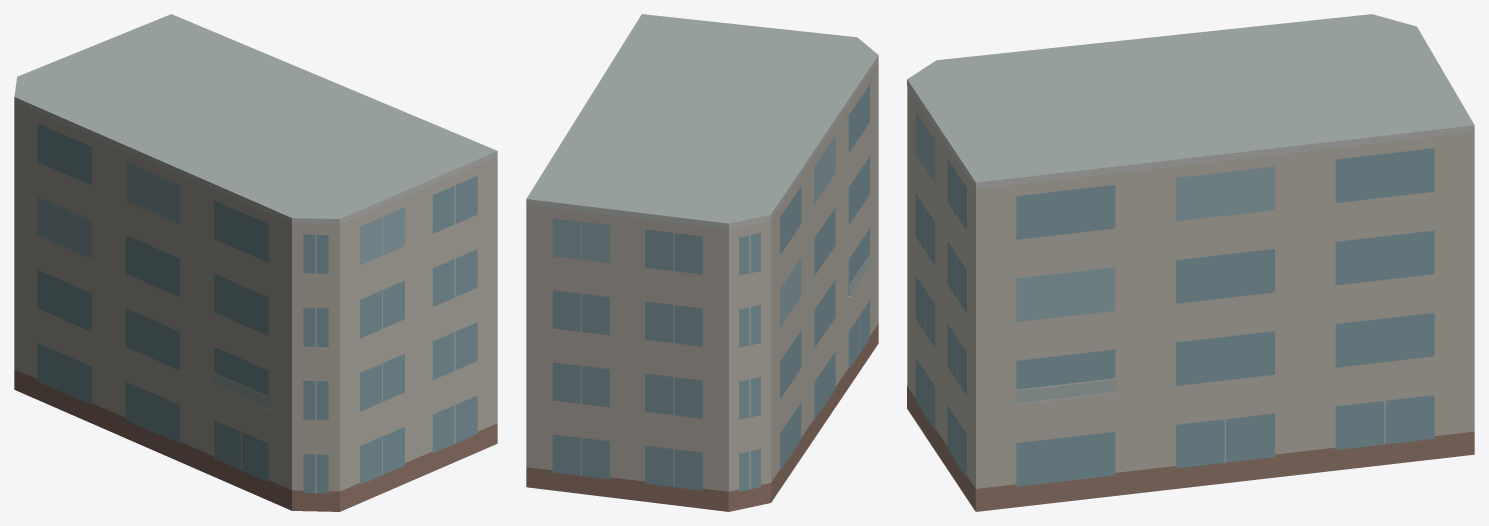
The model's file is survey-upis-32784157.glb.
3 views of the same model, side by side, from view 1: azimuth 30°, elevation 25°; view 2: azimuth 150°, elevation 25°; view 3: azimuth 270°, elevation 25° (orthographic). The views are drawn at different scales.
Visible parts, largest first — view 1: survey-upis-32784157.tmp; view 2: survey-upis-32784157.tmp; view 3: survey-upis-32784157.tmp.
Boxes of the visible parts, bbox=[...] form: survey-upis-32784157.tmp: bbox=[14, 14, 497, 511]; survey-upis-32784157.tmp: bbox=[526, 14, 878, 511]; survey-upis-32784157.tmp: bbox=[907, 14, 1474, 511].
Bounding box in the file's own units: 13.63 × 12.4 × 19.38.
